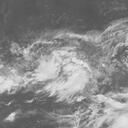cyclone: (34, 40, 98, 101)
